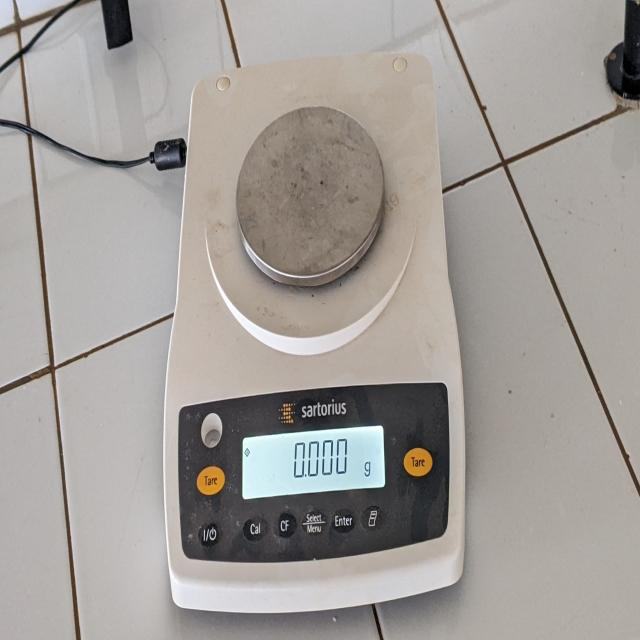Electronic Balance: (163, 27, 471, 618)
